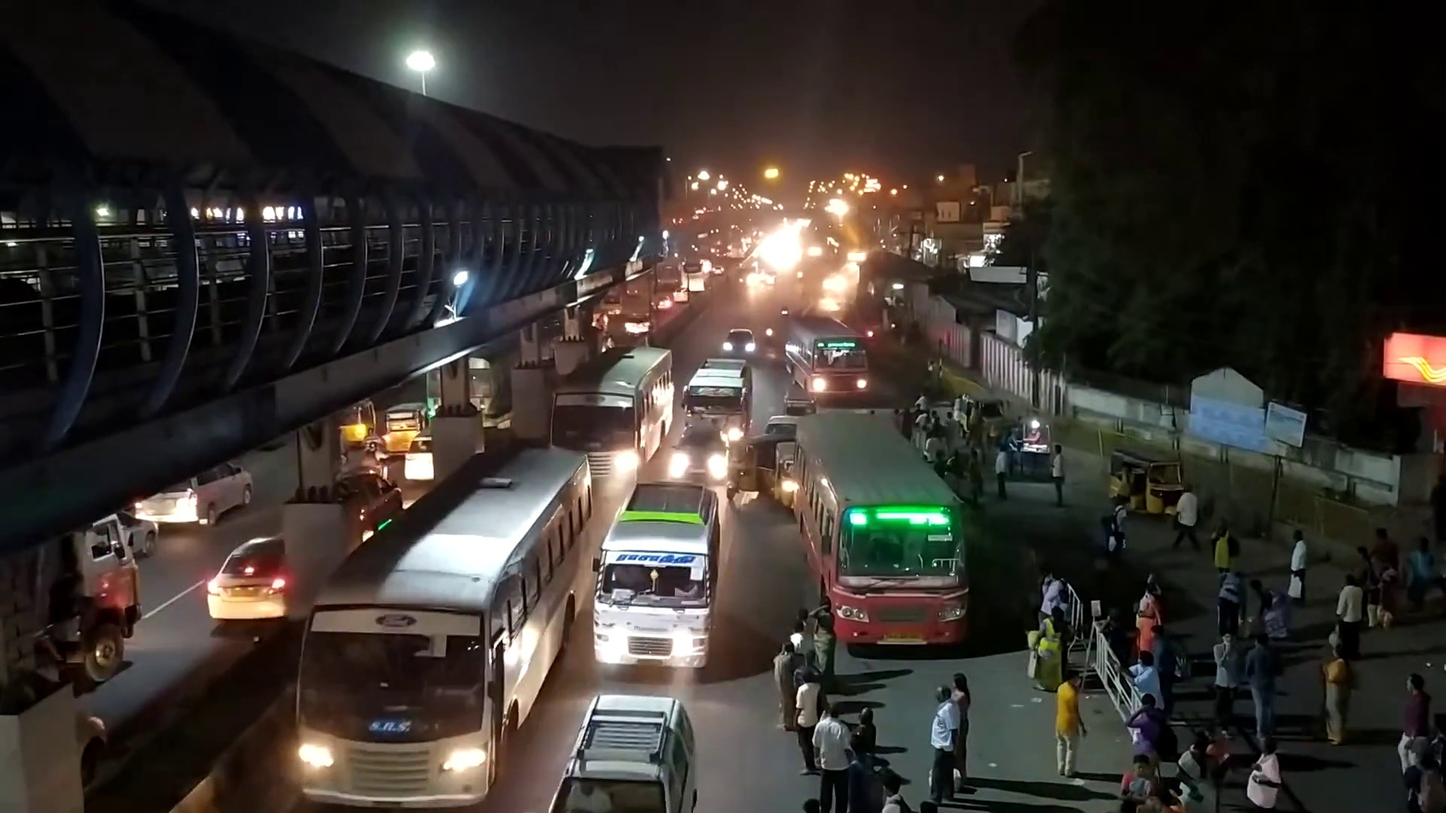driver_helmet: (364, 441, 390, 473)
motorcycle: (363, 441, 390, 482)
